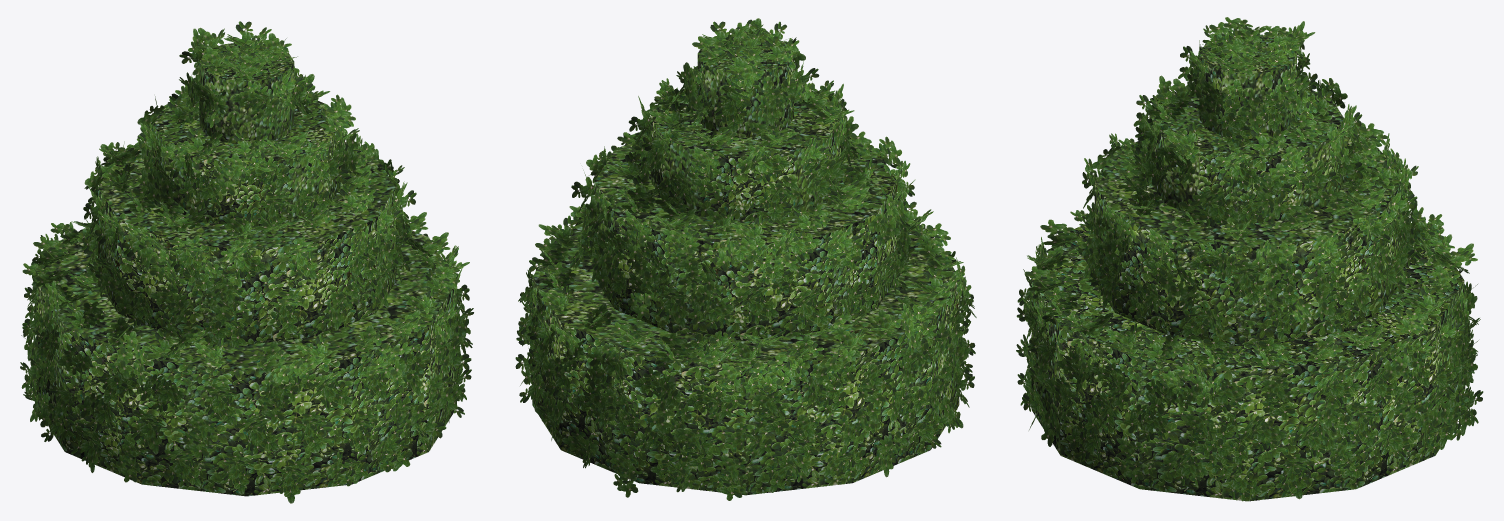
The model's file is hedge_shape_B.FBX.
3 views of the same model, side by side, from view 1: azimuth 30°, elevation 25°; view 2: azimuth 150°, elevation 25°; view 3: azimuth 270°, elevation 25° (orthographic). The views are drawn at different scales.
Parts seen in each view (by area): view 1: hedge_shape_B; view 2: hedge_shape_B; view 3: hedge_shape_B.
Part boxes in pixels (x1=…): hedge_shape_B: x1=20, y1=21, x2=473, y2=503; hedge_shape_B: x1=515, y1=18, x2=976, y2=500; hedge_shape_B: x1=1016, y1=17, x2=1483, y2=501.
Size of the model in its own units: 134 by 123 by 134.
